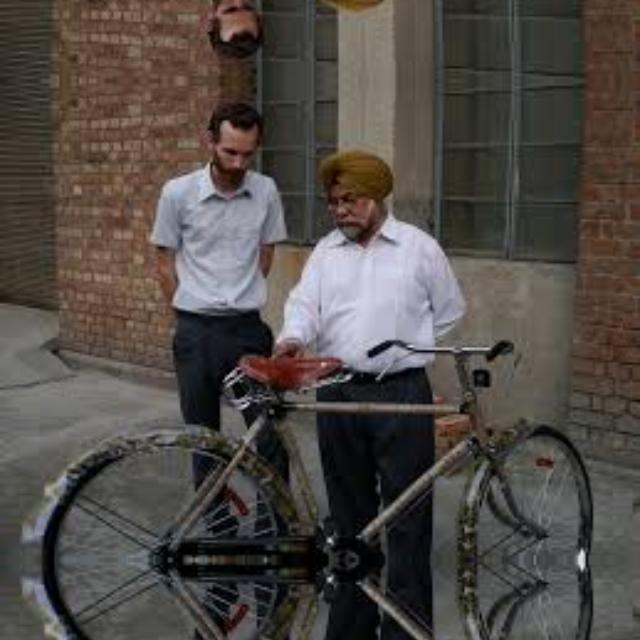obstacle: (28, 322, 638, 560), (28, 559, 638, 640)
person: (284, 137, 486, 385), (168, 104, 294, 370), (168, 0, 293, 56), (284, 0, 486, 23)
